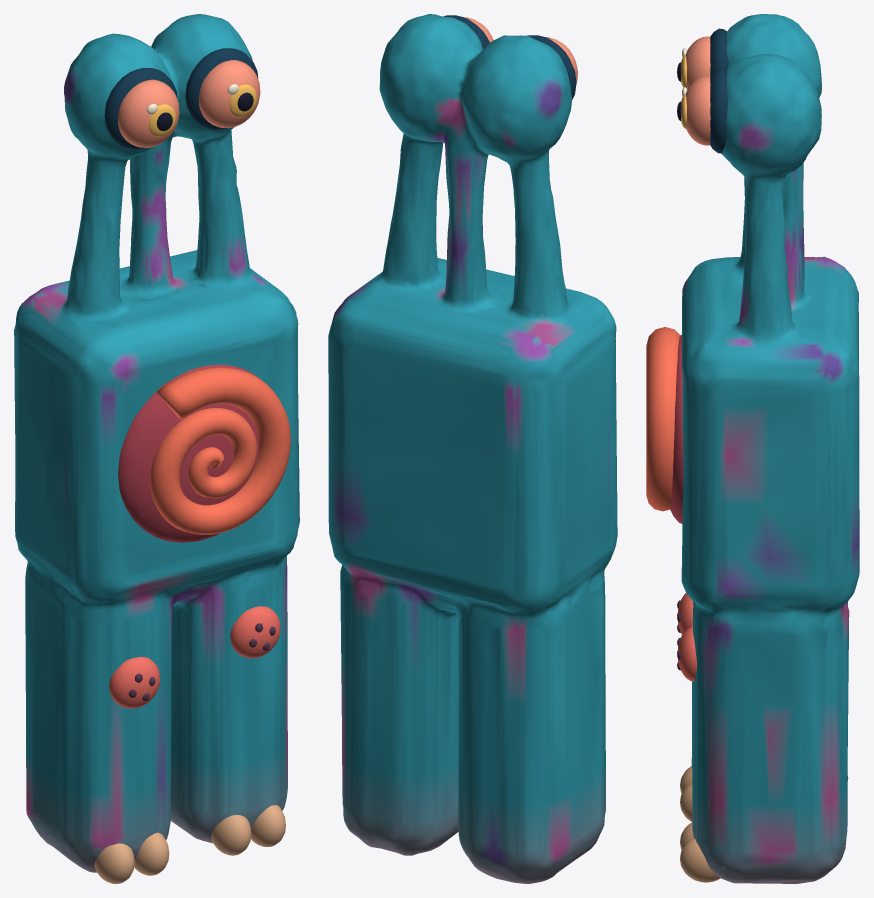
Rendered from slakkenoog-blauw.glb.
The picture shows the model from 3 angles, left to right: view 1: azimuth 30°, elevation 25°; view 2: azimuth 150°, elevation 25°; view 3: azimuth 270°, elevation 25°; orthographic projection.
Visible parts, largest first — view 1: body_017, stalk_001, leg_l_004, stalk_008, leg_l_006, leg_r_005, head_004, stalk_006, leg_l_010, leg_r_009, stalk_009, leg_r_002 (+30 smaller); view 2: stalk_001, leg_l_002, leg_l_001, stalk_004, leg_r_003, head_004, stalk_005, stalk_002, leg_l_008, leg_r_001, head_002, leg_r_007 (+37 smaller); view 3: leg_r_004, stalk_003, stalk_007, leg_r_006, head_001, body_017, leg_r_010, head_002, stalk_001, leg_r_008, head_004, body_008 (+19 smaller).
Boxes of the visible parts, x1=… form: body_017: x1=118, y1=364, x2=290, y2=542; stalk_001: x1=74, y1=130, x2=243, y2=265; leg_l_004: x1=47, y1=573, x2=160, y2=708; stalk_008: x1=43, y1=259, x2=141, y2=396; leg_l_006: x1=48, y1=674, x2=136, y2=793; leg_r_005: x1=171, y1=651, x2=252, y2=765; head_004: x1=64, y1=33, x2=179, y2=147; stalk_006: x1=155, y1=229, x2=255, y2=367; leg_l_010: x1=47, y1=773, x2=136, y2=883; leg_r_009: x1=170, y1=750, x2=252, y2=855; stalk_009: x1=110, y1=240, x2=198, y2=389; leg_r_002: x1=171, y1=564, x2=256, y2=665; stalk_001: x1=390, y1=133, x2=561, y2=267; leg_l_002: x1=494, y1=682, x2=584, y2=804; leg_l_001: x1=488, y1=581, x2=584, y2=703; stalk_004: x1=488, y1=264, x2=589, y2=403; leg_r_003: x1=376, y1=660, x2=458, y2=775; head_004: x1=460, y1=35, x2=577, y2=118; stalk_005: x1=431, y1=249, x2=524, y2=396; stalk_002: x1=373, y1=233, x2=459, y2=382; leg_l_008: x1=494, y1=782, x2=585, y2=883; leg_r_001: x1=377, y1=573, x2=458, y2=674; head_002: x1=380, y1=14, x2=488, y2=98; leg_r_007: x1=376, y1=760, x2=458, y2=855; leg_r_004: x1=769, y1=686, x2=848, y2=804; stalk_003: x1=769, y1=278, x2=859, y2=406; stalk_007: x1=682, y1=279, x2=768, y2=406; leg_r_006: x1=692, y1=685, x2=768, y2=804; head_001: x1=677, y1=68, x2=821, y2=178; body_017: x1=646, y1=327, x2=683, y2=523; leg_r_010: x1=680, y1=783, x2=768, y2=883; head_002: x1=682, y1=54, x2=821, y2=134; stalk_001: x1=740, y1=163, x2=804, y2=287; leg_r_008: x1=768, y1=787, x2=847, y2=883; head_004: x1=677, y1=14, x2=820, y2=89; body_008: x1=769, y1=488, x2=859, y2=557.
Bounding box in the file's own units: 1.46 × 5 × 1.2.
